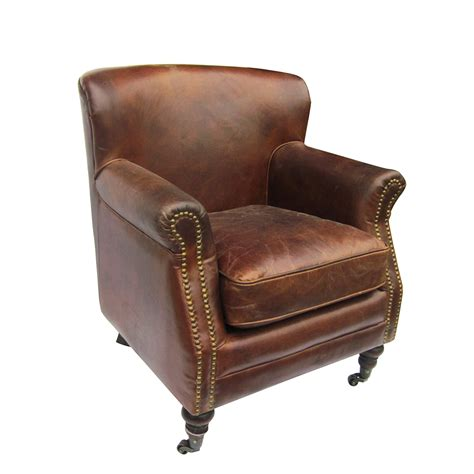cuero: (78, 64, 406, 415)
